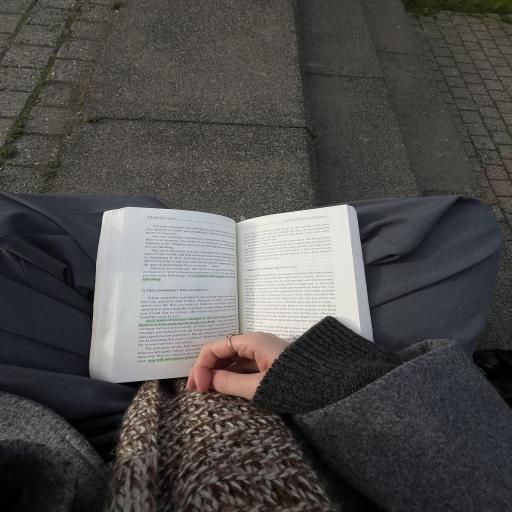bed: (88, 206, 372, 382)
